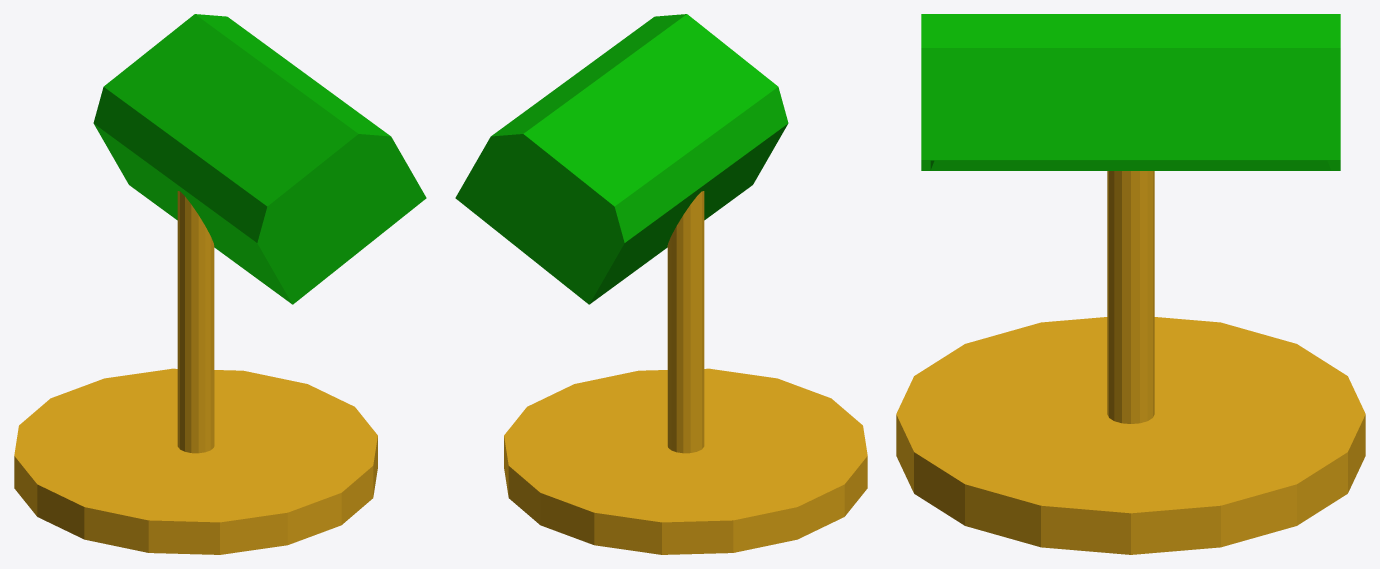
File: DeskLamp.fbx
The picture shows the model from 3 angles, left to right: view 1: azimuth 30°, elevation 25°; view 2: azimuth 150°, elevation 25°; view 3: azimuth 270°, elevation 25°; orthographic projection. The views are drawn at different scales.
Visible parts, largest first — view 1: Circle; view 2: Circle; view 3: Circle.
Boxes of the visible parts, bbox=[...] form: Circle: bbox=[14, 14, 426, 554]; Circle: bbox=[455, 14, 867, 554]; Circle: bbox=[896, 14, 1365, 554].
Bounding box in the file's own units: 30.63 × 35.43 × 30.63.
